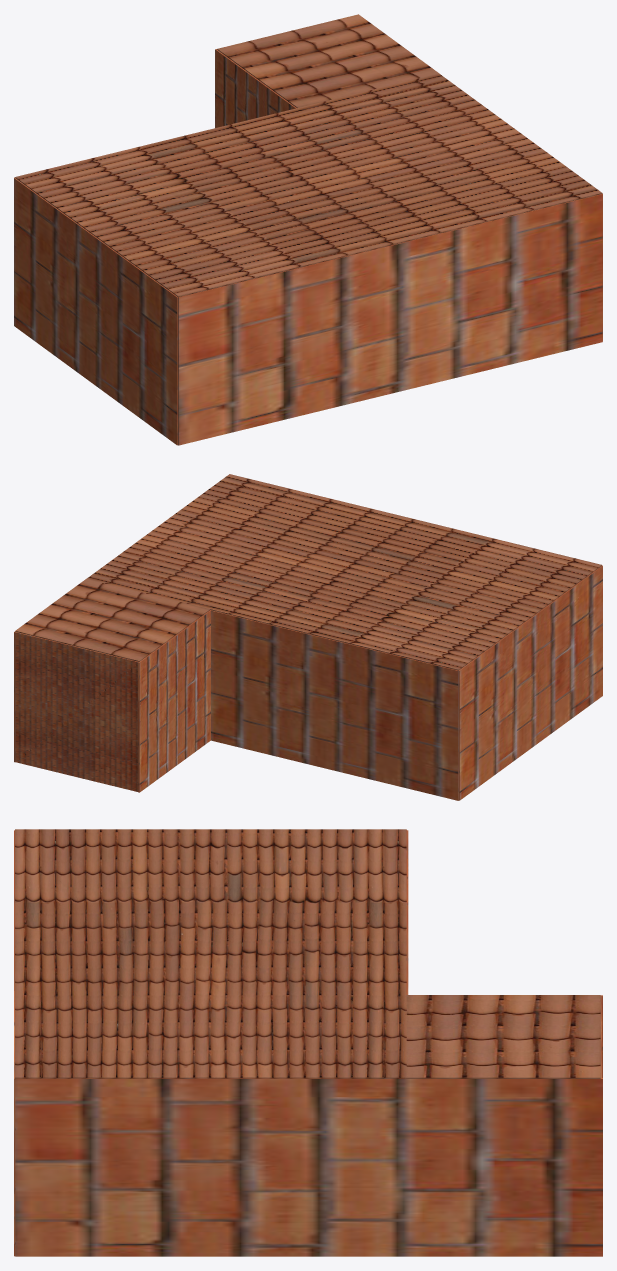
3 renders of one model, top to bottom at view 1: azimuth 30°, elevation 25°; view 2: azimuth 150°, elevation 25°; view 3: azimuth 270°, elevation 25°, orthographic. The views are drawn at different scales.
Parts seen in each view (by area): view 1: north_wall_8m.001, north_wall_8m, east_wall_6m, north_wall_8m.002, entrance_wall_east_3m; view 2: north_wall_8m.001, south_wall_6m, east_wall_6m, entrance_wall_south, entrance_wall_east_3m, north_wall_8m.002; view 3: west_wall_9m, north_wall_8m.001, north_wall_8m.002, north_wall_8m.
Part boxes in pixels (<box>): north_wall_8m.001: <box>15,73,602,297</box>; north_wall_8m: <box>178,194,602,445</box>; east_wall_6m: <box>14,178,177,445</box>; north_wall_8m.002: <box>217,14,439,107</box>; entrance_wall_east_3m: <box>215,49,296,127</box>; north_wall_8m.001: <box>86,474,601,670</box>; south_wall_6m: <box>211,610,458,800</box>; east_wall_6m: <box>459,566,602,800</box>; entrance_wall_south: <box>15,632,139,791</box>; entrance_wall_east_3m: <box>138,610,210,792</box>; north_wall_8m.002: <box>15,579,210,661</box>; west_wall_9m: <box>15,1078,602,1256</box>; north_wall_8m.001: <box>15,829,406,1079</box>; north_wall_8m.002: <box>405,995,600,1078</box>; north_wall_8m: <box>14,830,15,1256</box>.
Size of the model in its own units: 9.04 by 9.02 by 3.02.
6 materials, 2 textured.
